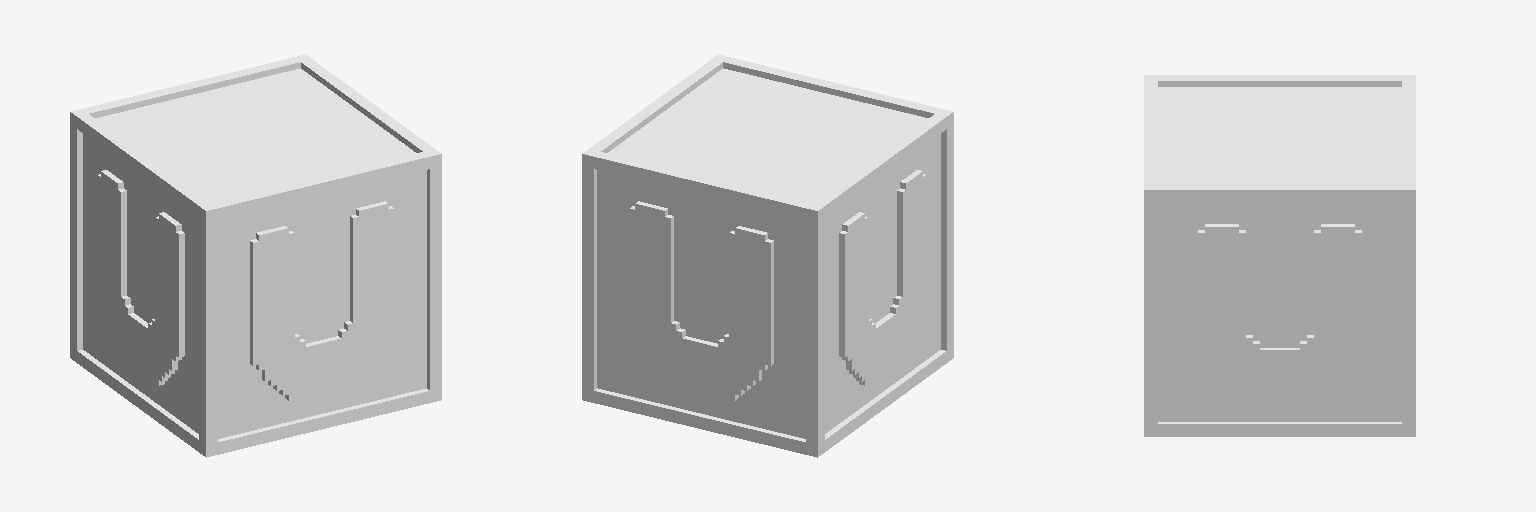
The model's file is magnetbox.obj.
The picture shows the model from 3 angles: view 1: azimuth 30°, elevation 25°; view 2: azimuth 150°, elevation 25°; view 3: azimuth 270°, elevation 25°; orthographic projection.
Parts seen in each view (by area): view 1: object 1; view 2: object 1; view 3: object 1.
Boxes of the visible parts, x1,y1,x2,y2 form: object 1: [70, 54, 441, 457]; object 1: [582, 54, 953, 457]; object 1: [1144, 75, 1415, 436].
Bounding box in the file's own units: 4 × 4 × 4.